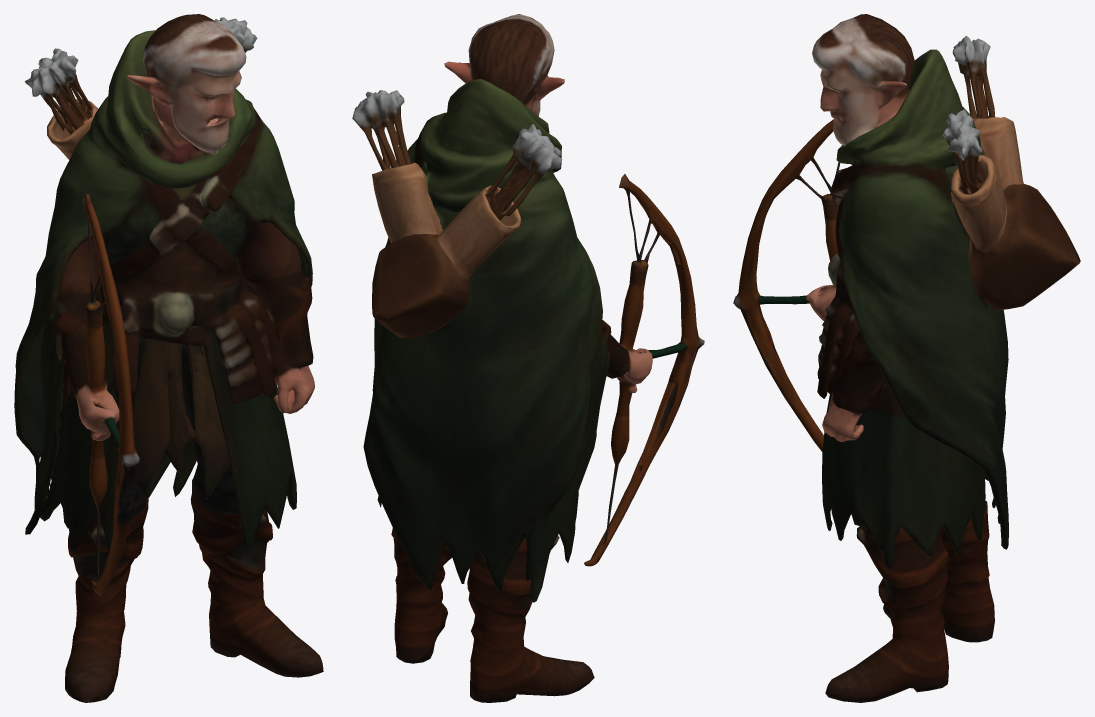
File: thorn.glb
3 renders of one model, left to right at view 1: azimuth 30°, elevation 25°; view 2: azimuth 150°, elevation 25°; view 3: azimuth 270°, elevation 25°, orthographic. The views are drawn at different scales.
Parts seen in each view (by area): view 1: world; view 2: world; view 3: world.
Part boxes in pixels (x1=…): world: x1=14, y1=14, x2=323, y2=702; world: x1=352, y1=14, x2=704, y2=702; world: x1=733, y1=14, x2=1080, y2=702.
Bounding box in the file's own units: 0.4124 × 1 × 0.4982.
Materials: 1 (1 with a texture image).
